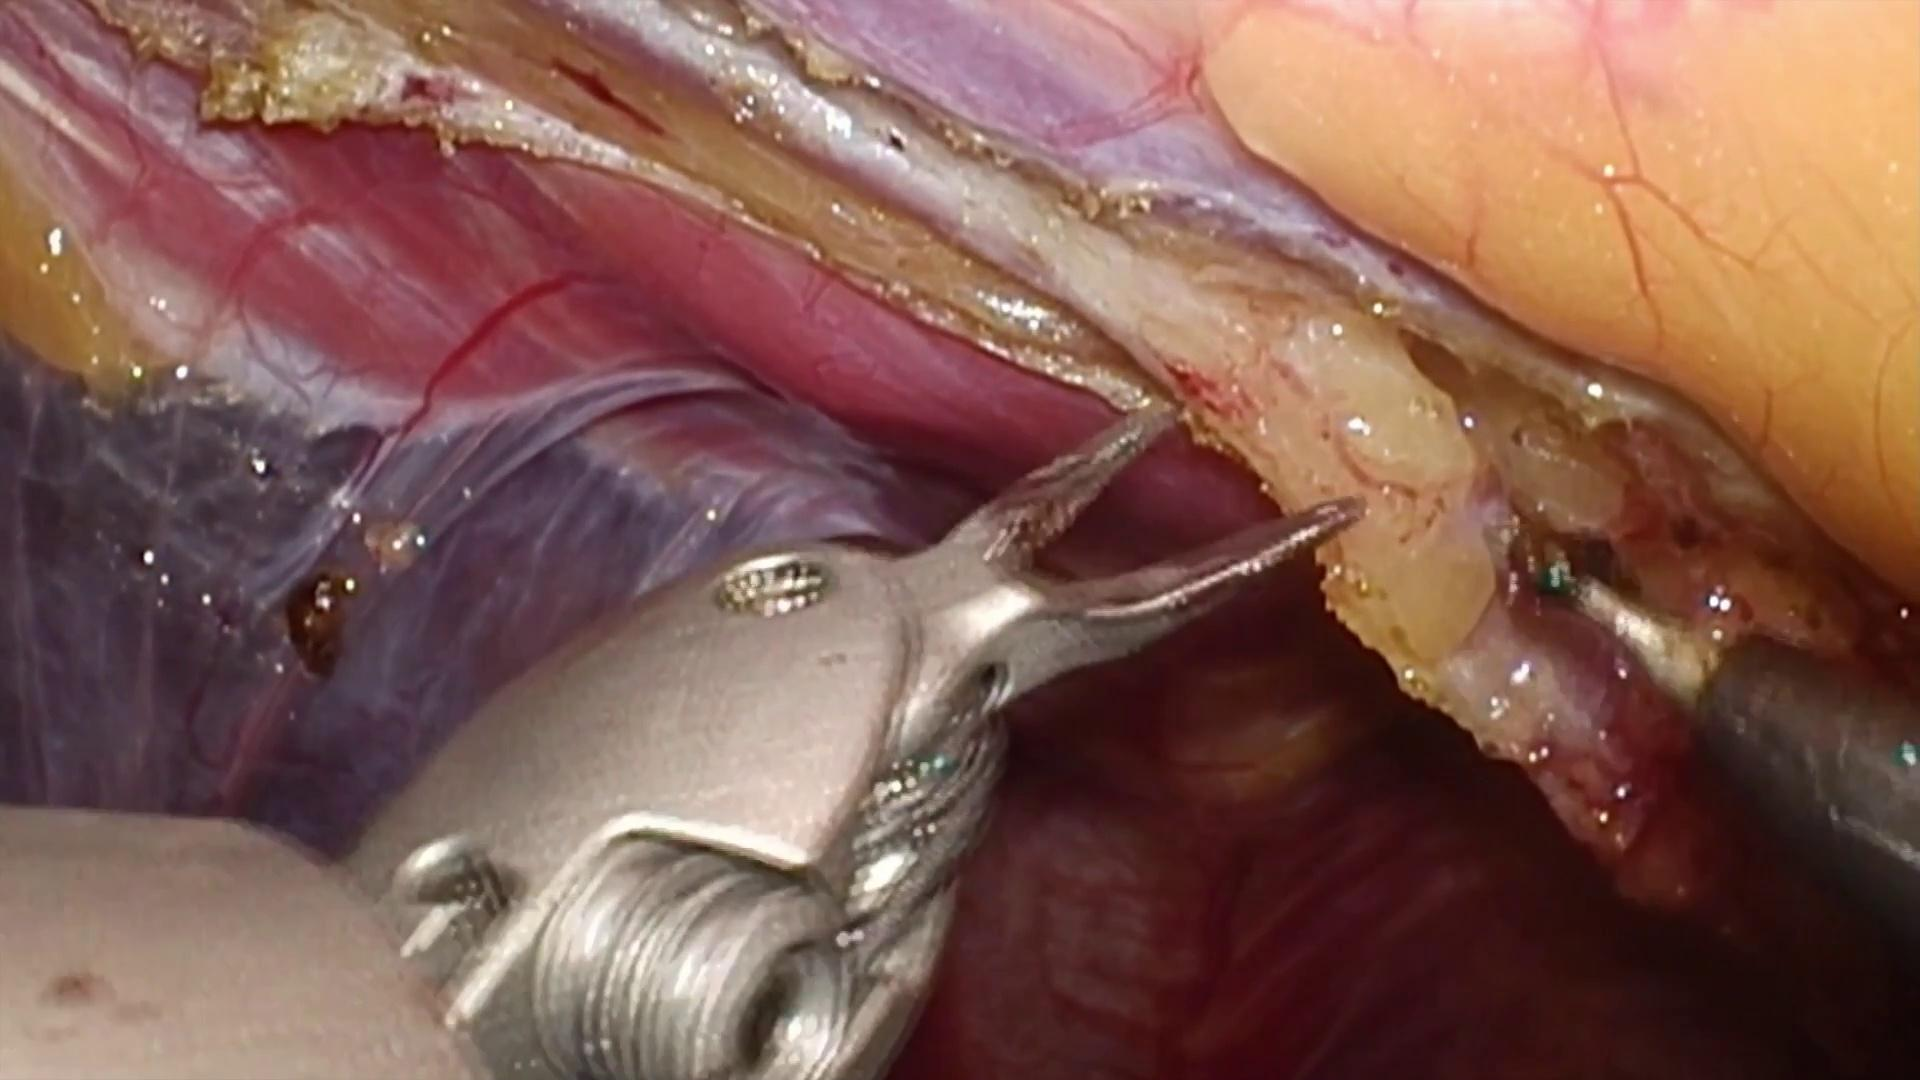Cautery_Spatula: (1513, 530, 1920, 975)
Debakey: (886, 390, 1373, 699)
